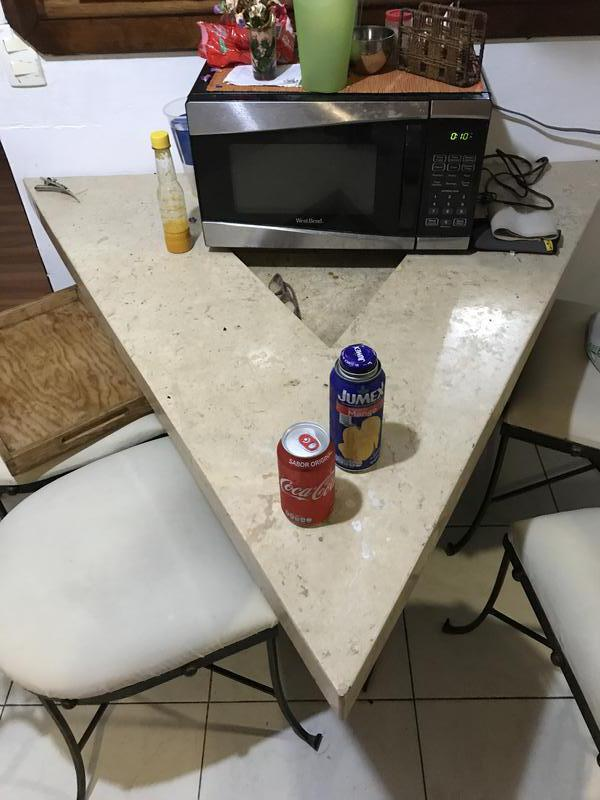coca_cola: (275, 422, 336, 528)
jugo_jumex: (330, 344, 385, 473)
